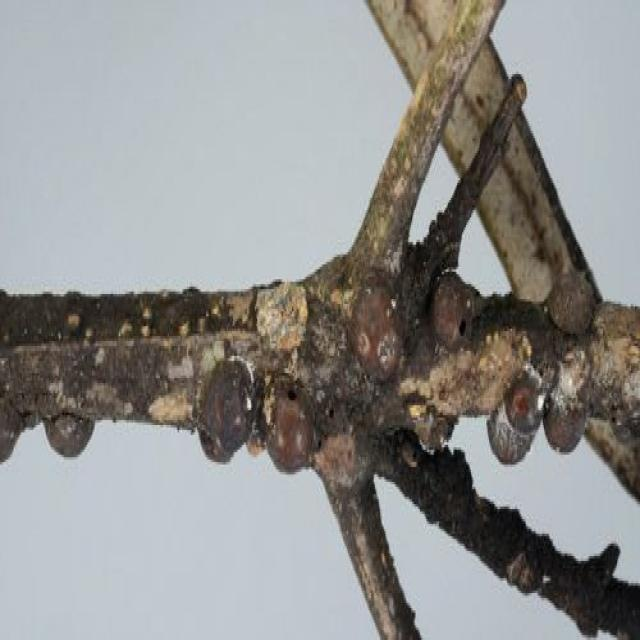Black Scale: (488, 361, 588, 462), (197, 356, 260, 462), (348, 267, 404, 378), (264, 376, 321, 478), (429, 269, 483, 356), (545, 264, 600, 334), (45, 410, 93, 457), (0, 393, 23, 462)
